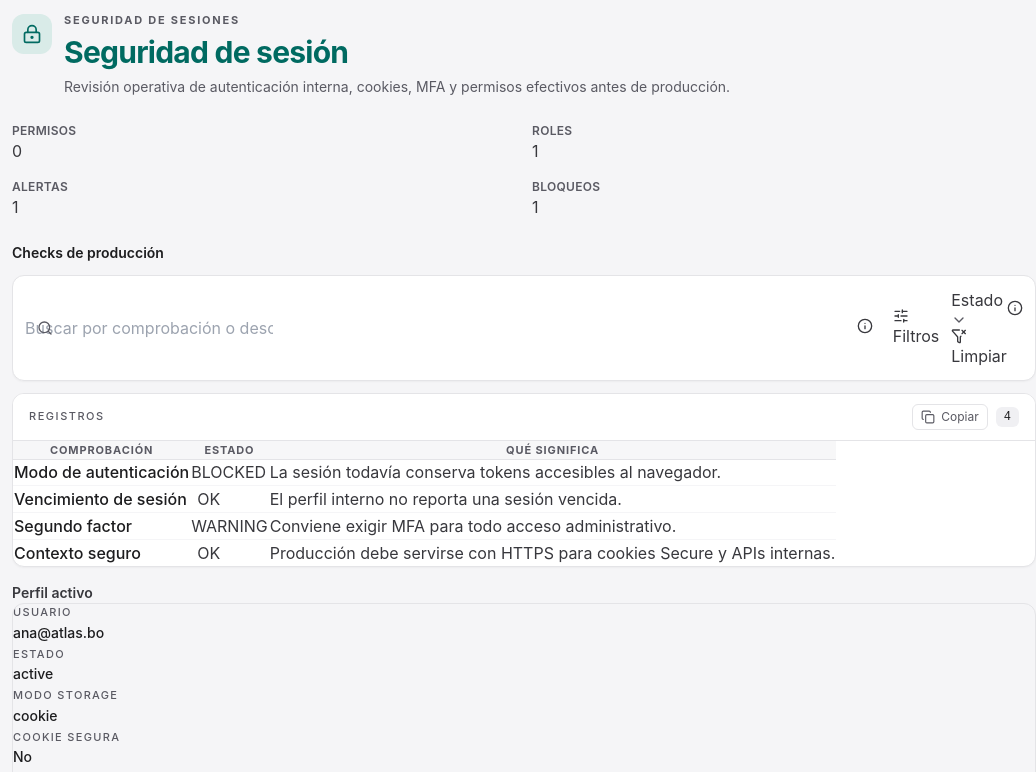
Scenario: SessionSecurityPage · checks de producción › el buscador recorta las filas por nombre o descripción
Type "segundo factor" into the field labelled "Buscar por comprobación o descripción…" at (149, 328), box [25, 316, 273, 340]
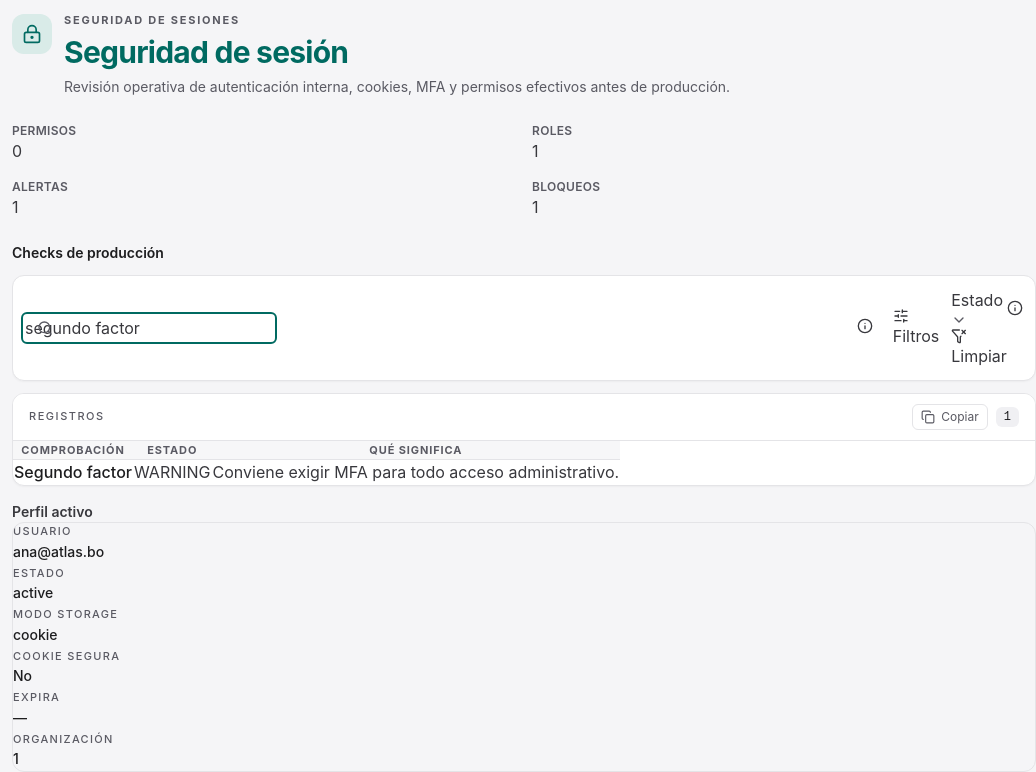
Now the text "Vencimiento de sesión" is gone
Now the text "Segundo factor" is shown, box [14, 462, 132, 482]
